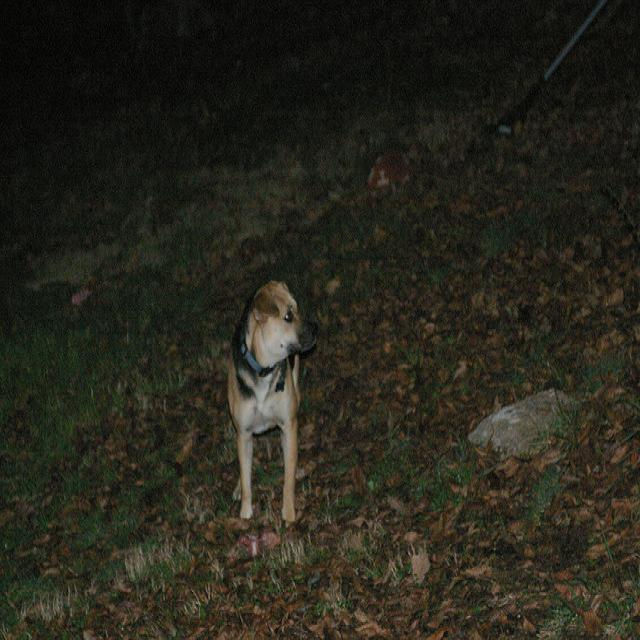Dog: (212, 280, 336, 532)
